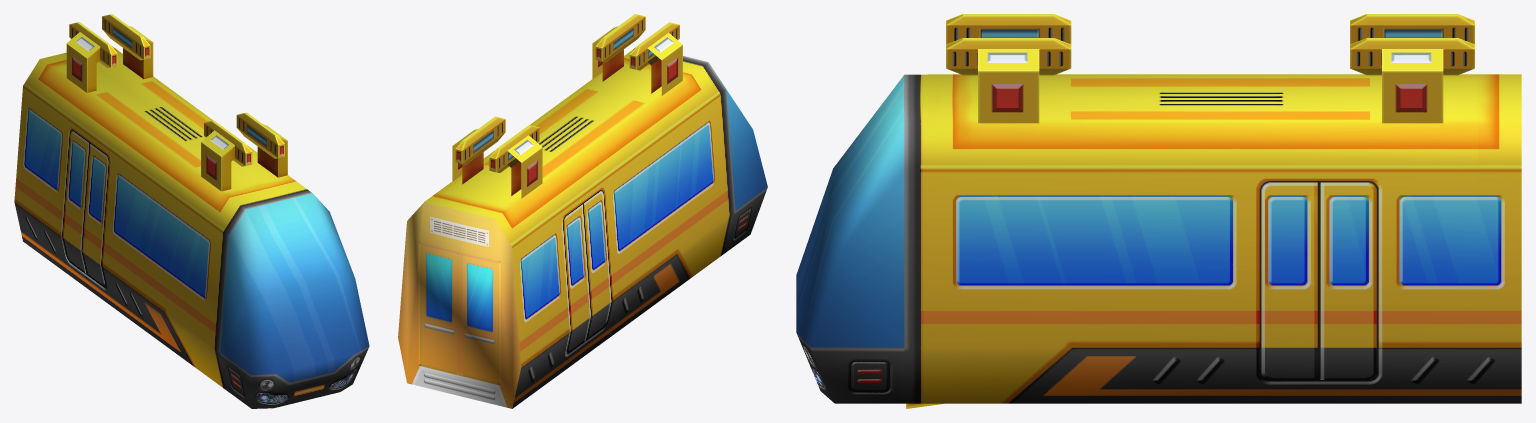
Rendered from Monotrain_Head_Yellow.fbx.
3 views of the same model, side by side, from view 1: azimuth 30°, elevation 25°; view 2: azimuth 150°, elevation 25°; view 3: azimuth 270°, elevation 25° (orthographic). The views are drawn at different scales.
Parts seen in each view (by area): view 1: Monotrain_Head_Yellow; view 2: Monotrain_Head_Yellow; view 3: Monotrain_Head_Yellow.
Part boxes in pixels (x1=…): Monotrain_Head_Yellow: x1=14, y1=14, x2=369, y2=408; Monotrain_Head_Yellow: x1=398, y1=14, x2=767, y2=408; Monotrain_Head_Yellow: x1=796, y1=14, x2=1521, y2=408.
Size of the model in its own units: 531 by 1049 by 1878.
